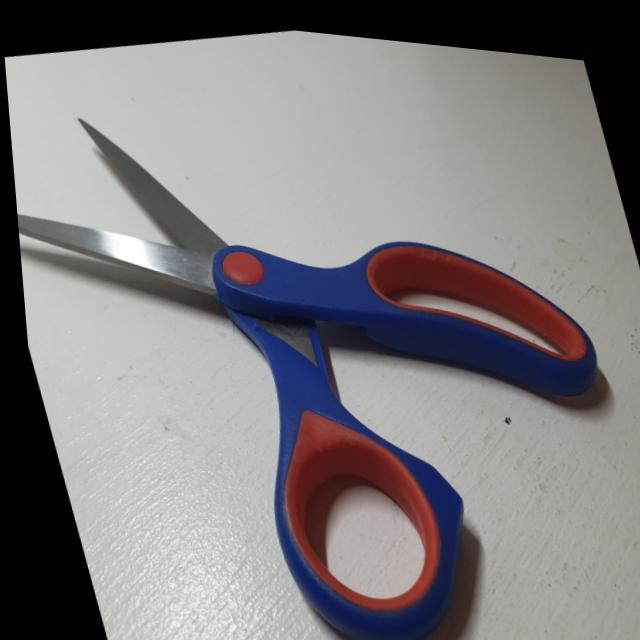scissor: (1, 22, 640, 640)
